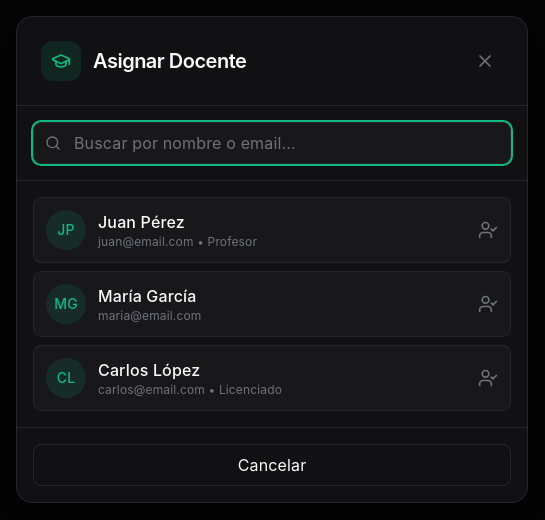
Test case: AsignarDocenteModal › Búsqueda › filtra docentes por email
Check: the text "Juan Pérez" is shown, box [98,212,185,232]
Type "carlos@" into the field with placeholder "Buscar por nombre o email..." at (272, 142), box [33,122,511,164]
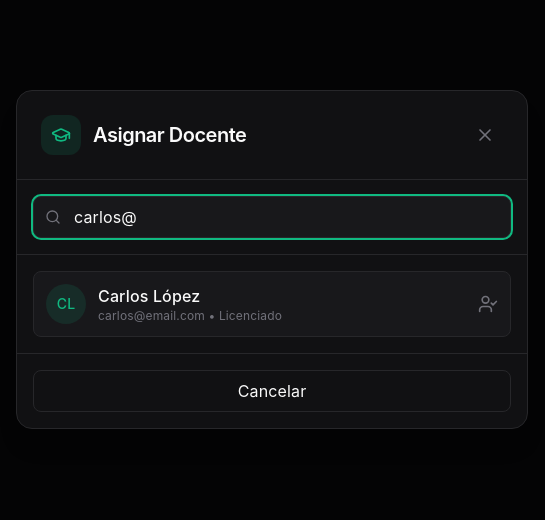
Check: the text "Carlos López" is shown, box [98,286,200,306]
Check: the button "Juan Pérez" is gone
